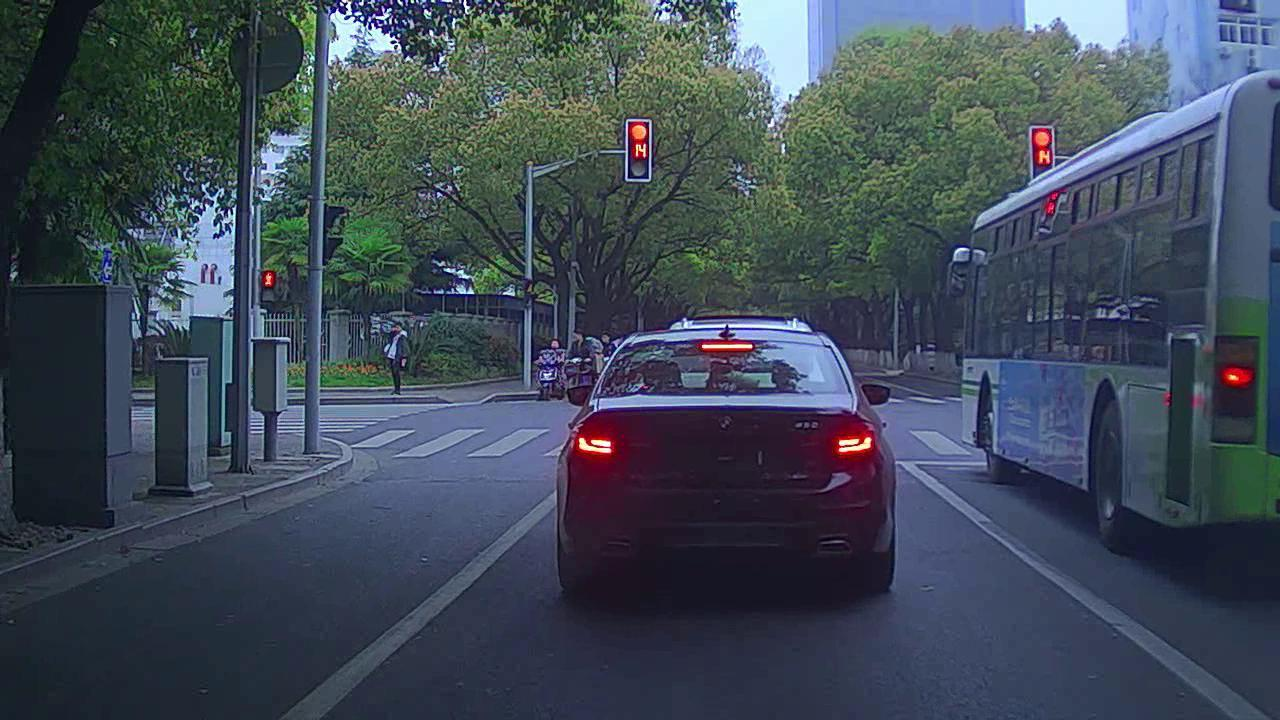traffic_light: (628, 120, 653, 177), (1031, 127, 1054, 173)
